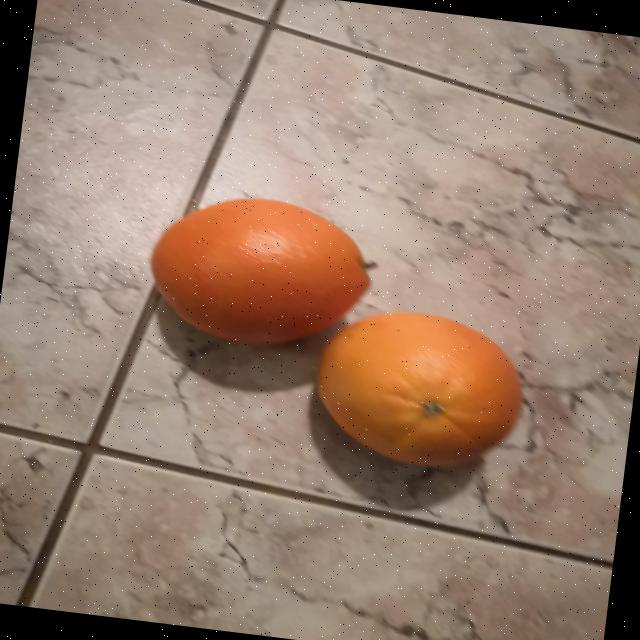orange: (150, 198, 369, 344), (318, 311, 521, 466)
